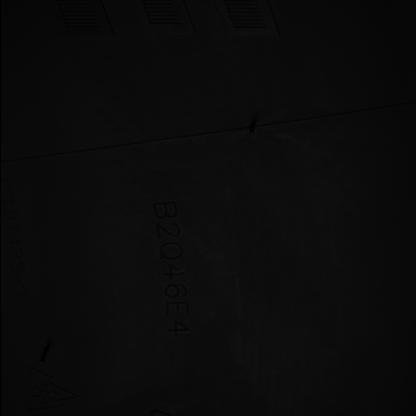ocr: (145, 200, 192, 336)
